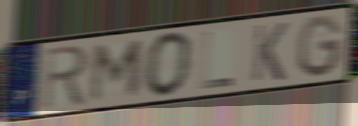G: (296, 13, 345, 81)
K: (249, 21, 290, 84)
L: (198, 29, 236, 92)
M: (87, 38, 147, 105)
O: (143, 30, 195, 99)
R: (40, 43, 91, 113)
